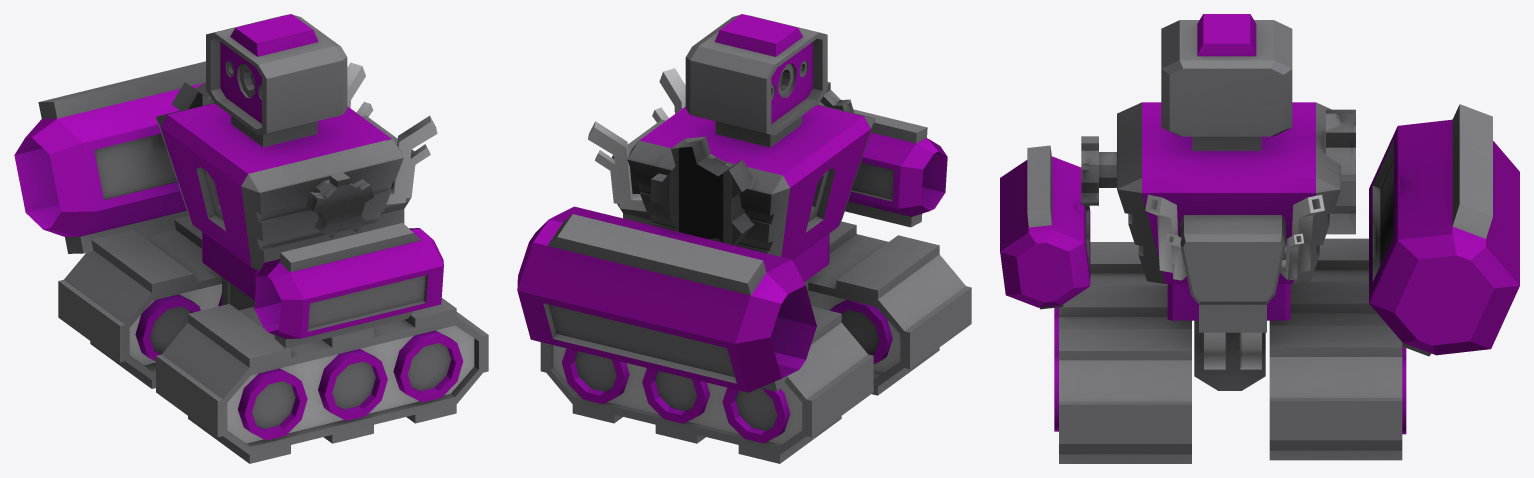
File: Enemy2_Die7.obj
3 views of the same model, side by side, from view 1: azimuth 30°, elevation 25°; view 2: azimuth 150°, elevation 25°; view 3: azimuth 270°, elevation 25° (orthographic). The views are drawn at different scales.
Visible parts, largest first — view 1: Object006, Object013, Object011, Object014, Object012, Object010, Object008, Object009; view 2: Object011, Object006, Object013, Object012, Object014, Object009, Object010, Object008; view 3: Object006, Object011, Object013, Object012, Object010, Object014, Object009, Object008.
Boxes of the visible parts, box(x1,y1,x2,y2) form: Object006: box(58, 216, 488, 463); Object013: box(156, 103, 403, 310); Object011: box(14, 61, 205, 253); Object014: box(254, 223, 443, 348); Object012: box(206, 14, 347, 147); Object010: box(347, 62, 437, 228); Object008: box(306, 172, 374, 237); Object009: box(171, 82, 213, 110); Object011: box(517, 206, 816, 392); Object006: box(540, 221, 971, 463); Object013: box(627, 104, 875, 293); Object012: box(685, 14, 827, 147); Object014: box(845, 109, 947, 227); Object009: box(651, 136, 754, 245); Object010: box(588, 68, 685, 225); Object008: box(818, 82, 854, 112); Object006: box(1054, 238, 1406, 463); Object011: box(1369, 104, 1519, 356); Object013: box(1117, 102, 1340, 390); Object012: box(1161, 14, 1292, 150); Object010: box(1145, 194, 1324, 369); Object014: box(1000, 145, 1090, 309); Object009: box(1326, 109, 1355, 234); Object008: box(1081, 136, 1116, 205).
Size of the model in its own units: 87.45 by 108 by 134.
